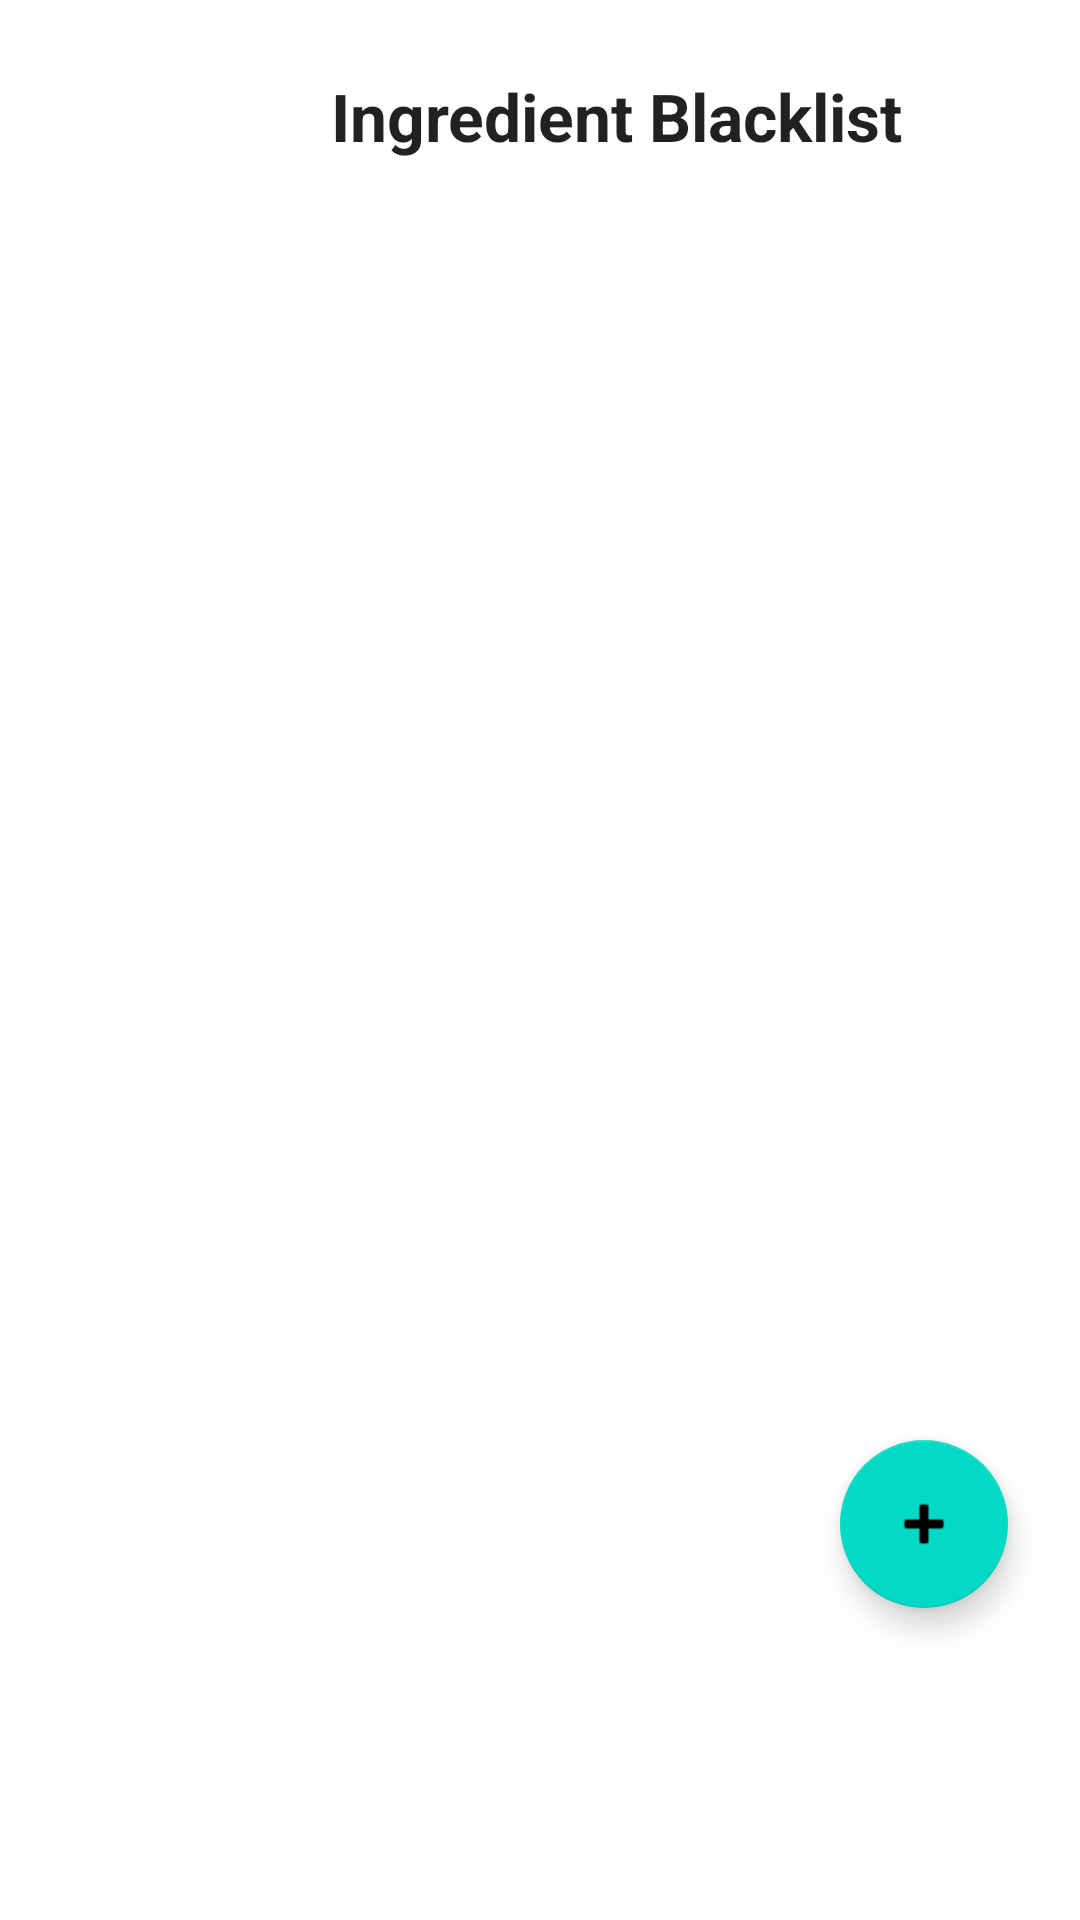

Point at icon controls on the screen. Image size 1080px x 1920px, points as point (x, y).
add: point (924, 1524)
